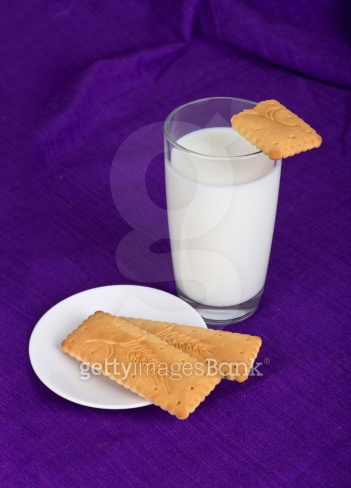glass of milk: (156, 85, 286, 342)
